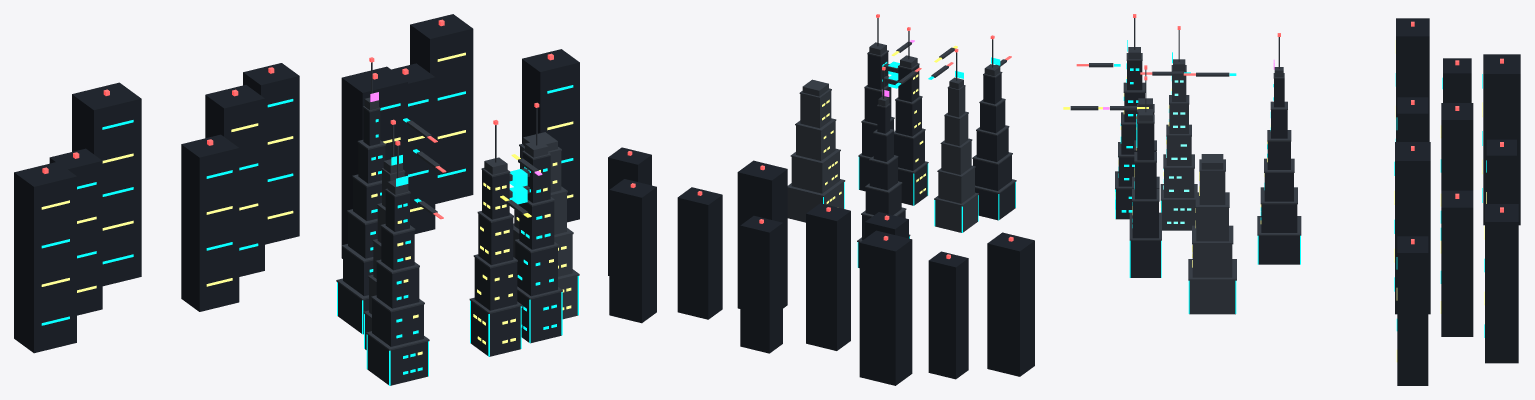
The model's file is cyber_city_skyline.glb.
3 views of the same model, side by side, from view 1: azimuth 30°, elevation 25°; view 2: azimuth 150°, elevation 25°; view 3: azimuth 270°, elevation 25° (orthographic). The views are drawn at different scales.
Visible parts, largest first — view 1: Horizon_Megastructure_0, Horizon_Megastructure_3, Horizon_Megastructure_2, Horizon_Megastructure_8, Horizon_Megastructure_5, Horizon_Megastructure_4, Horizon_Megastructure_9, Horizon_Megastructure_6, Horizon_Megastructure_1, Horizon_Megastructure_7, Spire_Corp_Monolith_Tier_0, Spire_Arcology_A_Tier_0 (+21 smaller); view 2: Horizon_Megastructure_2, Horizon_Megastructure_0, Horizon_Megastructure_8, Horizon_Megastructure_4, Horizon_Megastructure_7, Horizon_Megastructure_5, Horizon_Megastructure_1, Horizon_Megastructure_6, Horizon_Megastructure_9, Spire_DataCitadel_Tier_1, Spire_DataCitadel_Tier_2, Spire_DataCitadel_Tier_0 (+23 smaller); view 3: Horizon_Megastructure_8, Horizon_Megastructure_7, Horizon_Megastructure_9, Horizon_Megastructure_2, Horizon_Megastructure_6, Horizon_Megastructure_4, Horizon_Megastructure_0, Horizon_Megastructure_5, Spire_DataCitadel_Tier_0, Horizon_Megastructure_3, Spire_DataCitadel_Tier_1, Horizon_Megastructure_1 (+20 smaller).
Part boxes in pixels (bbox=[...]): Horizon_Megastructure_0: bbox=[14, 162, 76, 353]; Horizon_Megastructure_3: bbox=[181, 134, 239, 311]; Horizon_Megastructure_2: bbox=[72, 82, 141, 286]; Horizon_Megastructure_8: bbox=[410, 14, 473, 203]; Horizon_Megastructure_5: bbox=[243, 63, 299, 244]; Horizon_Megastructure_4: bbox=[205, 85, 264, 276]; Horizon_Megastructure_9: bbox=[522, 49, 579, 222]; Horizon_Megastructure_6: bbox=[341, 66, 407, 258]; Horizon_Megastructure_1: bbox=[49, 148, 102, 315]; Horizon_Megastructure_7: bbox=[391, 63, 435, 233]; Spire_Corp_Monolith_Tier_0: bbox=[367, 335, 427, 385]; Spire_Arcology_A_Tier_0: bbox=[471, 301, 520, 356]; Horizon_Megastructure_2: bbox=[859, 230, 912, 385]; Horizon_Megastructure_0: bbox=[987, 232, 1034, 376]; Horizon_Megastructure_8: bbox=[609, 179, 656, 323]; Horizon_Megastructure_4: bbox=[806, 203, 850, 350]; Horizon_Megastructure_7: bbox=[677, 187, 722, 319]; Horizon_Megastructure_5: bbox=[740, 216, 782, 353]; Horizon_Megastructure_1: bbox=[928, 251, 968, 379]; Horizon_Megastructure_6: bbox=[737, 160, 787, 308]; Horizon_Megastructure_9: bbox=[608, 147, 651, 275]; Spire_DataCitadel_Tier_1: bbox=[791, 152, 839, 193]; Spire_DataCitadel_Tier_2: bbox=[796, 121, 835, 160]; Spire_DataCitadel_Tier_0: bbox=[787, 182, 843, 222]; Horizon_Megastructure_8: bbox=[1485, 204, 1518, 363]; Horizon_Megastructure_7: bbox=[1441, 190, 1473, 336]; Horizon_Megastructure_9: bbox=[1397, 236, 1428, 385]; Horizon_Megastructure_2: bbox=[1483, 54, 1520, 225]; Horizon_Megastructure_6: bbox=[1395, 142, 1430, 314]; Horizon_Megastructure_4: bbox=[1441, 103, 1473, 190]; Horizon_Megastructure_0: bbox=[1396, 18, 1429, 141]; Horizon_Megastructure_5: bbox=[1486, 139, 1516, 203]; Spire_DataCitadel_Tier_0: bbox=[1189, 280, 1235, 314]; Horizon_Megastructure_3: bbox=[1397, 97, 1428, 141]; Spire_DataCitadel_Tier_1: bbox=[1192, 244, 1232, 277]; Horizon_Megastructure_1: bbox=[1443, 58, 1471, 102].
Size of the model in its own units: 48.15 by 23.54 by 41.08.
